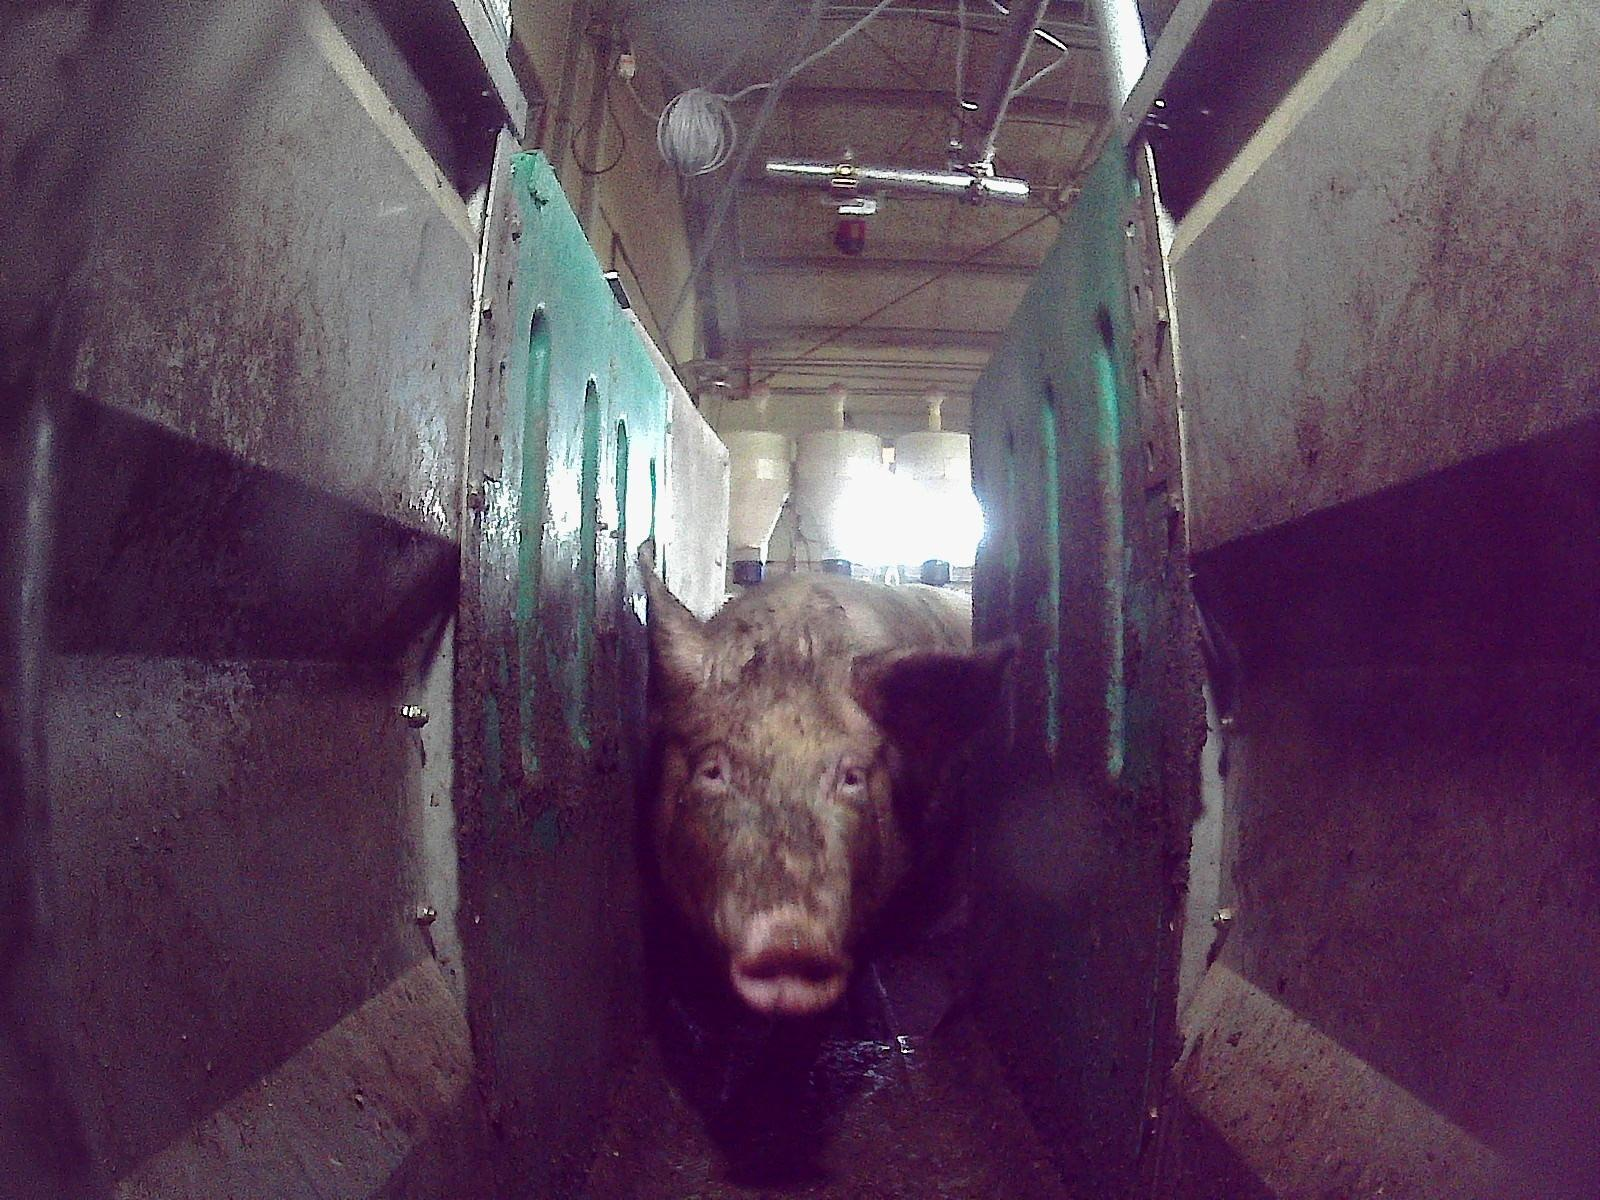Face: (659, 634, 911, 1013)
